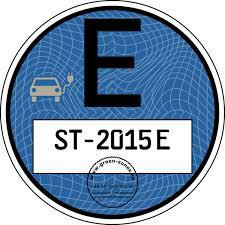0: (109, 129, 124, 151)
1: (125, 129, 138, 151)
2: (96, 129, 110, 151)
5: (137, 127, 152, 150)
E: (156, 128, 172, 150)
S: (53, 129, 68, 152)
T: (68, 128, 83, 151)
